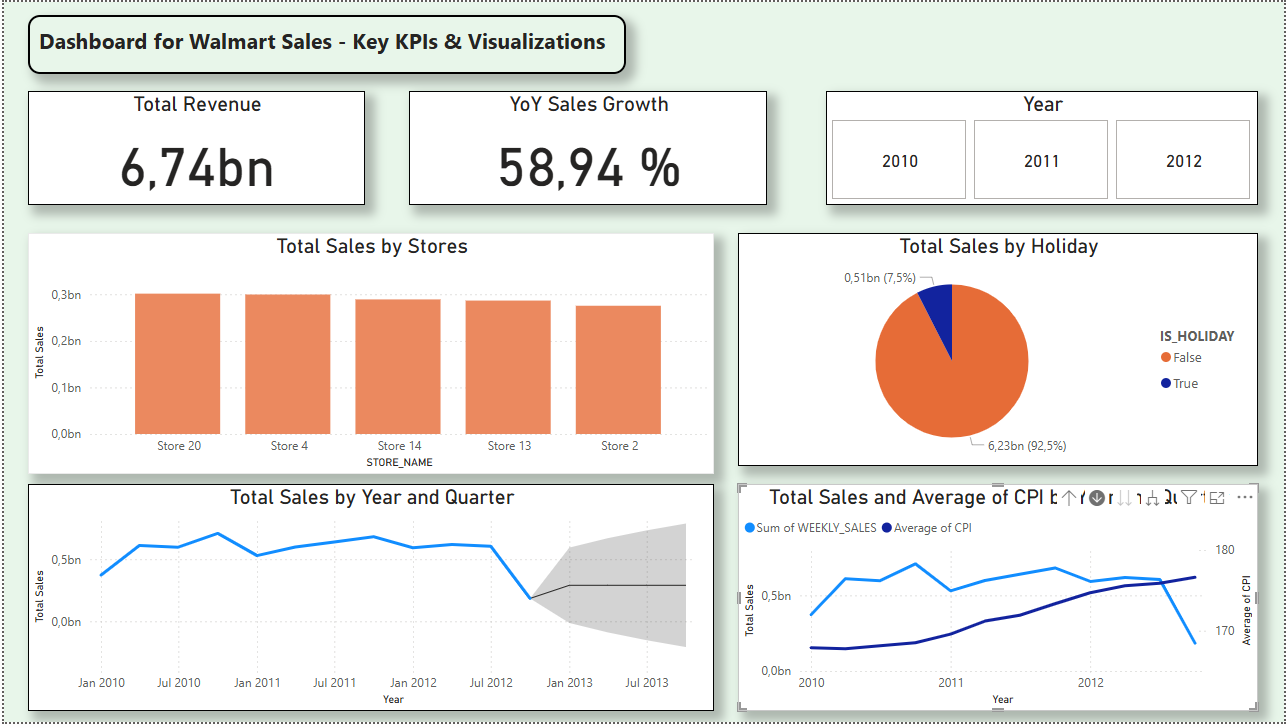

What the dashboard file says about the page in this screenshot:
{"tool":"powerbi","page":{"name":"Page 1","canvas":[1280,720],"ordinal":0},"visuals":[{"type":"textbox","box":[24.3,12.6,597.2,59.3],"z":0},{"type":"card","title":"Total Revenue","fields":{"Values":["Sum(FACT_SALES.WEEKLY_SALES)"]},"box":[24.3,89.5,336.5,113.8],"z":1},{"type":"card","title":"YoY Sales Growth","fields":{"Values":["FACT_SALES.YoY Sales Growth %"]},"box":[404.6,89.5,357.9,113.8],"z":2},{"type":"clusteredColumnChart","title":"Total Sales by Stores","fields":{"Category":["DIM_STORE.STORE_NAME"],"Y":["FACT_SALES.Total Sales"]},"box":[24.3,230.5,685.7,241.2],"z":3},{"type":"lineChart","title":"Total Sales by Year and Quarter","fields":{"Y":["Sum(FACT_SALES.WEEKLY_SALES)"],"Category":["DIM_DATE.SALES_DATE.Variation.Date Hierarchy.Year","DIM_DATE.SALES_DATE.Variation.Date Hierarchy.Quarter","DIM_DATE.SALES_DATE.Variation.Date Hierarchy.Month","DIM_DATE.SALES_DATE.Variation.Date Hierarchy.Day"]},"box":[24,482,686,227],"z":4},{"type":"pieChart","title":"Total Sales by Holiday","fields":{"Category":["FACT_SALES.IS_HOLIDAY"],"Y":["FACT_SALES.Total Sales"]},"box":[734.3,230.5,519.4,233.4],"z":5},{"type":"lineChart","title":"Total Sales and Average of CPI by Year and Quarter","fields":{"Category":["DIM_DATE.SALES_DATE.Variation.Date Hierarchy.Year","DIM_DATE.SALES_DATE.Variation.Date Hierarchy.Quarter","DIM_DATE.SALES_DATE.Variation.Date Hierarchy.Month","DIM_DATE.SALES_DATE.Variation.Date Hierarchy.Day"],"Y":["Sum(FACT_SALES.WEEKLY_SALES)"],"Y2":["Avg(FACT_SALES.CPI)"]},"box":[734,482,520,227],"z":6},{"type":"advancedSlicerVisual","fields":{"Values":["DIM_DATE.SALES_DATE.Variation.Date Hierarchy.Year"]},"box":[821.9,89.5,431.9,113.8],"z":7}]}

Visuals, with their boxes in screenshot pixels (x1, y1, x2, y2), scaled from the page's 1280x720 canvas onto the 1286x728 screenshot:
textbox: bbox(24, 13, 624, 73)
"Total Revenue" card: bbox(24, 90, 362, 206)
"YoY Sales Growth" card: bbox(406, 90, 766, 206)
"Total Sales by Stores" clusteredColumnChart: bbox(24, 233, 713, 477)
"Total Sales by Year and Quarter" lineChart: bbox(24, 487, 713, 717)
"Total Sales by Holiday" pieChart: bbox(738, 233, 1260, 469)
"Total Sales and Average of CPI by Year and Quarter" lineChart: bbox(737, 487, 1260, 717)
advancedSlicerVisual - DIM_DATE.SALES_DATE.Variation.Date Hierarchy.Year: bbox(826, 90, 1260, 206)
